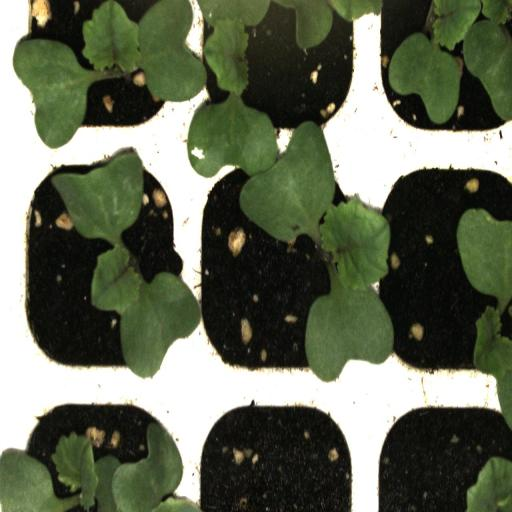Folha: (0, 422, 201, 512), (456, 208, 512, 428), (466, 456, 512, 512)
Germinacao: (192, 148, 368, 389), (14, 150, 190, 388), (13, 0, 192, 146)
